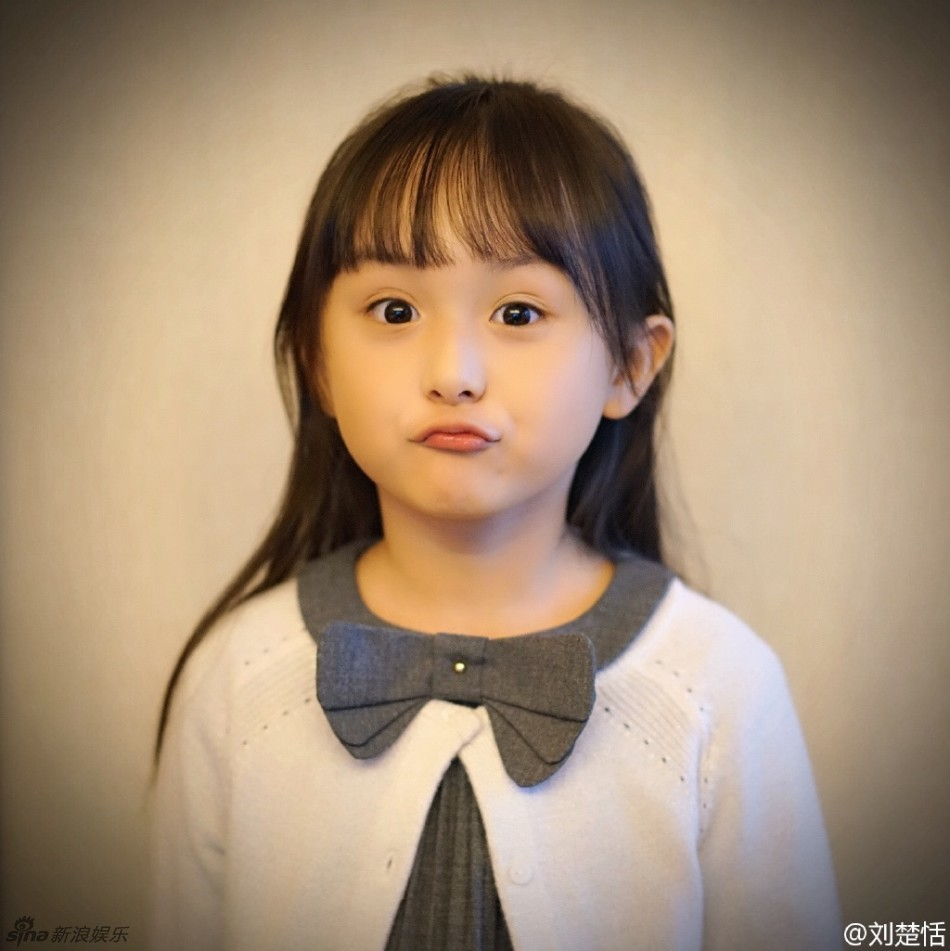unmask: (320, 203, 589, 498)
